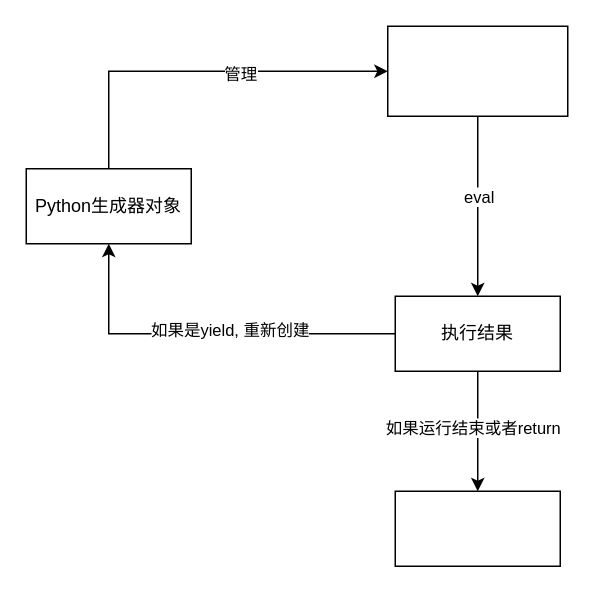
The diagram is 594 pixels wide and 593 high, and some of its shapes have lost their labels. The centre of each missing label's shape, as x and y in pixels:
IterDone对象: the point at 477,528
栈帧对象: the point at 477,70
